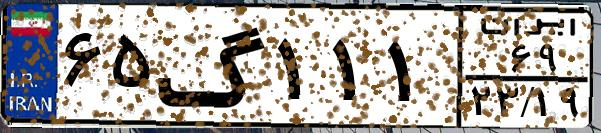1: (270, 28, 330, 110), (385, 28, 445, 110), (330, 28, 385, 110), (535, 70, 560, 125)
2: (470, 70, 495, 125)
3: (495, 70, 520, 125)
5: (110, 28, 156, 98)
6: (57, 26, 110, 100), (508, 27, 537, 80)
9: (560, 70, 590, 125), (537, 27, 568, 80)
گ: (156, 12, 270, 120)
